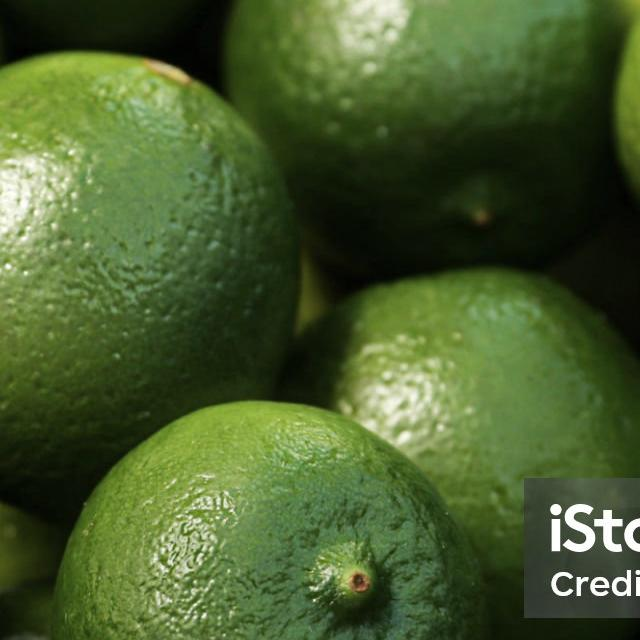lime: (220, 0, 630, 292)
